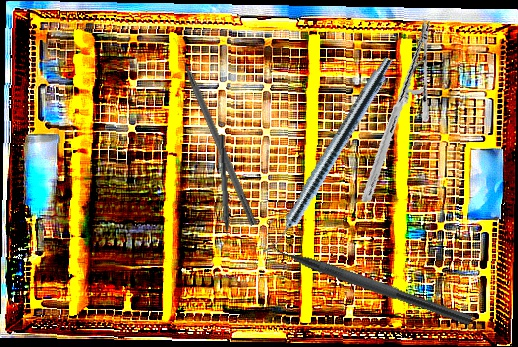Chopper: (260, 228, 478, 327), (211, 135, 233, 248)
Handpiece: (260, 52, 397, 261)
Hook Surgical: (170, 35, 259, 227)
Needle Holder: (332, 20, 461, 203)
